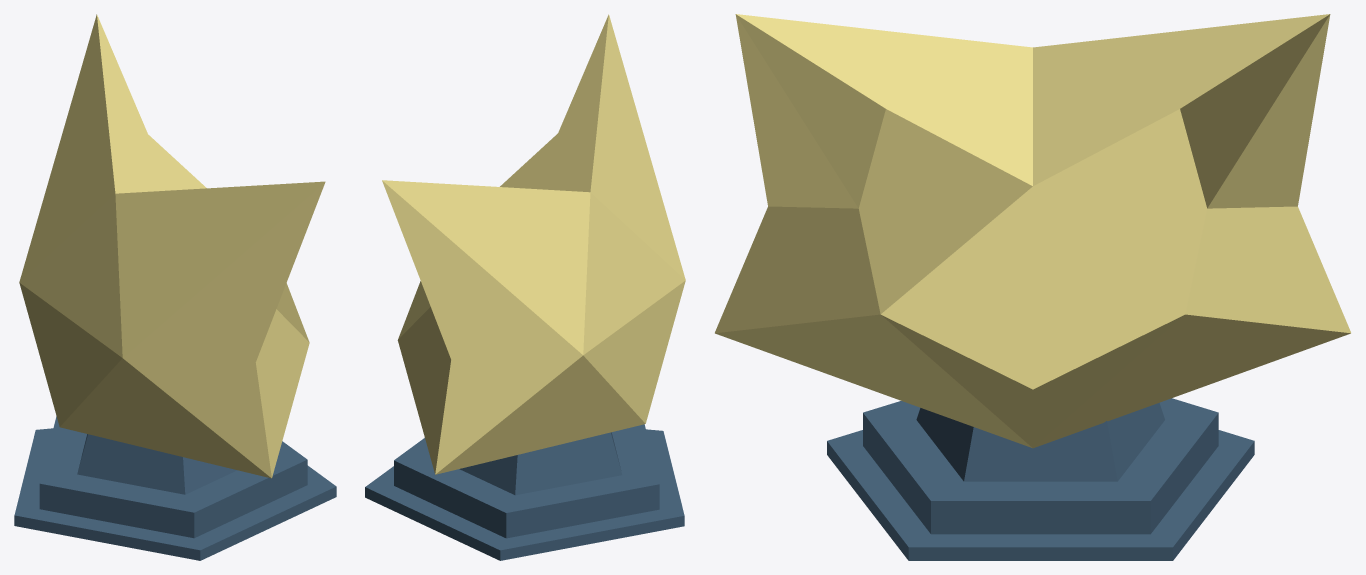
The model's file is cathead.fbx.
3 renders of one model, left to right at view 1: azimuth 30°, elevation 25°; view 2: azimuth 150°, elevation 25°; view 3: azimuth 270°, elevation 25°, orthographic. The views are drawn at different scales.
Parts seen in each view (by area): view 1: Icosphere; view 2: Icosphere; view 3: Icosphere.
Part boxes in pixels (box(x1,y1,x2,y2)): Icosphere: box(14, 14, 336, 560); Icosphere: box(365, 14, 685, 560); Icosphere: box(715, 14, 1350, 560).
Bounding box in the file's own units: 88.95 × 116 × 134.
